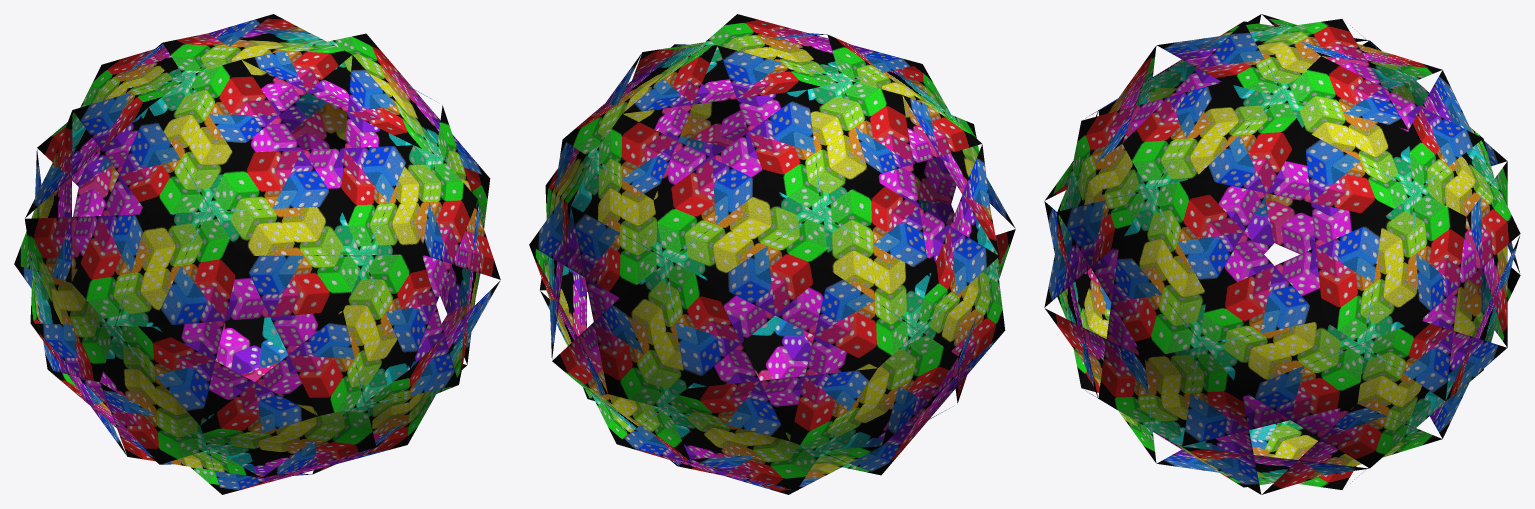
Rendered from 19SnubDodecadodecahedron.gltf.
The picture shows the model from 3 angles, left to right: view 1: azimuth 30°, elevation 25°; view 2: azimuth 150°, elevation 25°; view 3: azimuth 270°, elevation 25°; orthographic projection.
Parts seen in each view (by area): view 1: 16SnubDodecadodecahedron; view 2: 16SnubDodecadodecahedron; view 3: 16SnubDodecadodecahedron.
Part boxes in pixels (bbox=[...]): 16SnubDodecadodecahedron: bbox=[14, 14, 500, 494]; 16SnubDodecadodecahedron: bbox=[529, 14, 1015, 494]; 16SnubDodecadodecahedron: bbox=[1044, 14, 1520, 494].
Size of the model in its own units: 2.48 by 2.48 by 2.48.
Materials: 1 (1 with a texture image).
